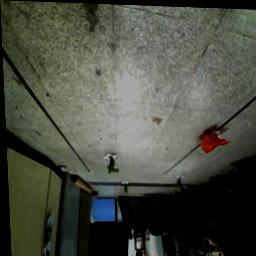herb: (105, 155, 119, 174), (175, 175, 182, 189), (123, 183, 128, 193)
wild: (198, 130, 231, 155)
